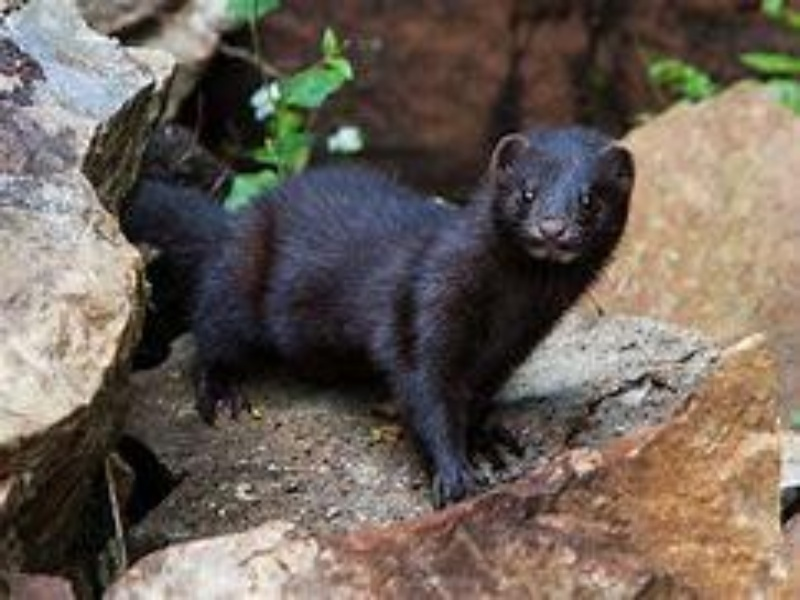minkish: (115, 125, 641, 507)
